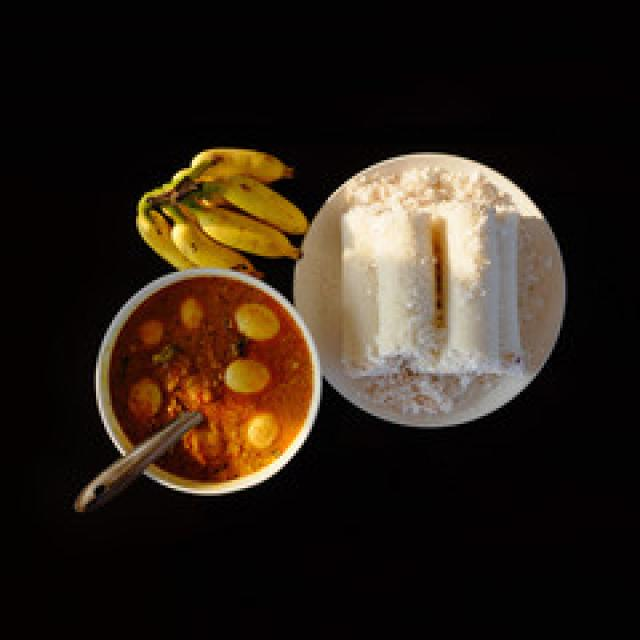BANANA: (131, 150, 313, 276)
CURRY: (109, 280, 309, 487)
PUTTU: (337, 164, 532, 380)
